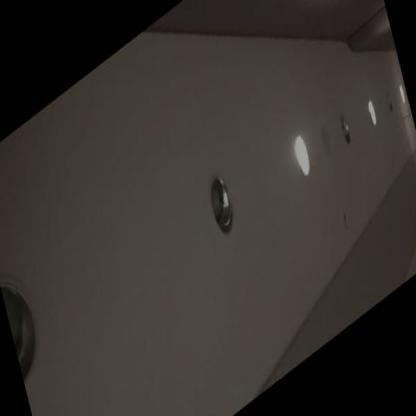light_off: (184, 136, 250, 270), (334, 102, 364, 170), (378, 78, 402, 134)
